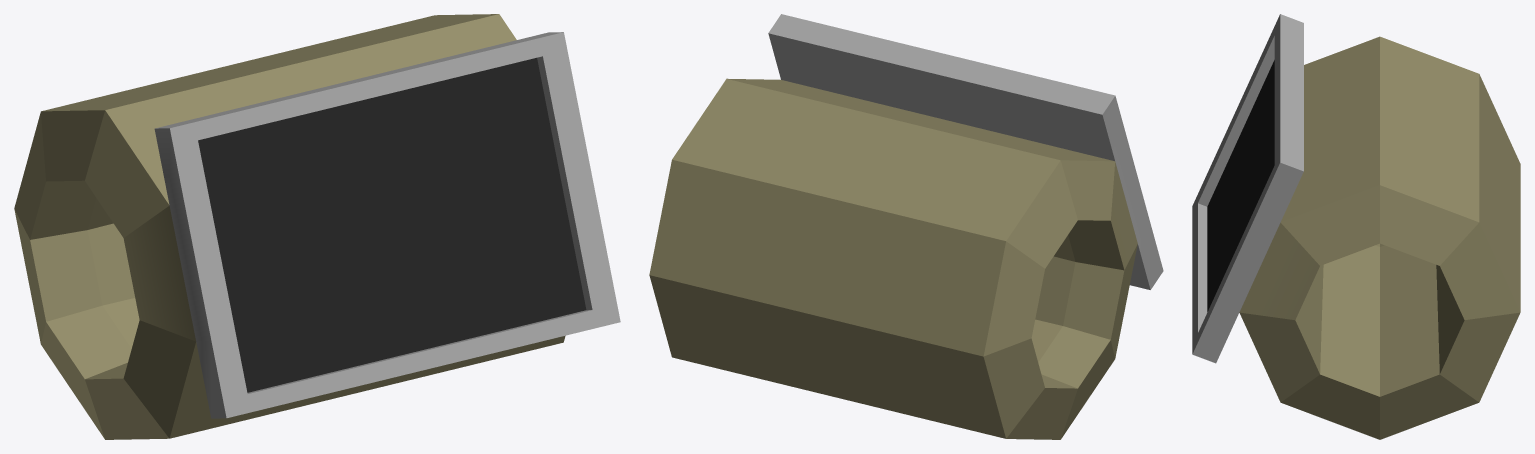
Rendered from Ally.fbx.
The picture shows the model from 3 angles, left to right: view 1: azimuth 30°, elevation 25°; view 2: azimuth 150°, elevation 25°; view 3: azimuth 270°, elevation 25°; orthographic projection. The views are drawn at different scales.
Visible parts, largest first — view 1: Ally; view 2: Ally; view 3: Ally.
Boxes of the visible parts, box(x1,y1,x2,y2) form: Ally: box(14, 14, 620, 439); Ally: box(649, 14, 1163, 439); Ally: box(1192, 14, 1520, 439).
Size of the model in its own units: 0.00857 by 0.00676 by 0.00725.
